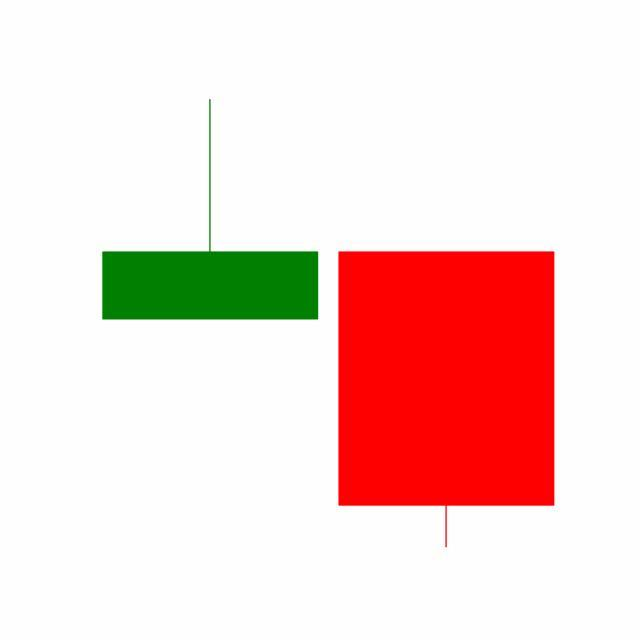Marubozu: (328, 249, 566, 552)
